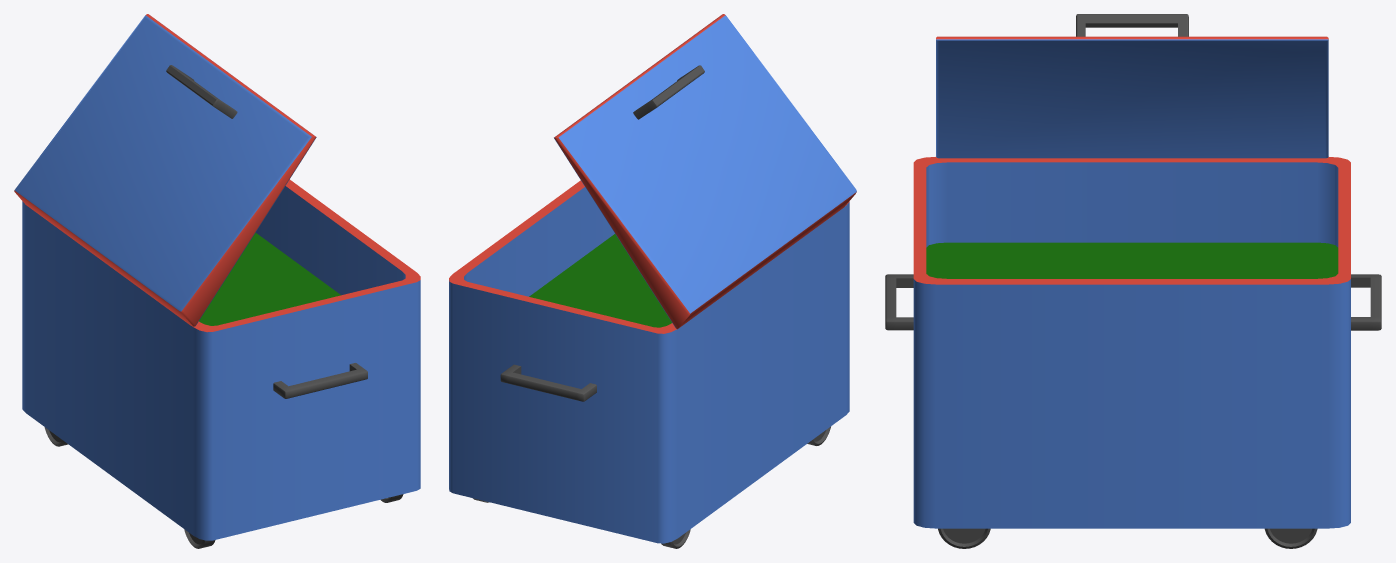
File: Trash.fbx
The picture shows the model from 3 angles, left to right: view 1: azimuth 30°, elevation 25°; view 2: azimuth 150°, elevation 25°; view 3: azimuth 270°, elevation 25°; orthographic projection. The views are drawn at different scales.
Parts seen in each view (by area): view 1: Cube; view 2: Cube; view 3: Cube.
Part boxes in pixels (x1,y1,x2,y2): Cube: [14, 14, 420, 548]; Cube: [449, 14, 856, 548]; Cube: [885, 14, 1381, 548].
Bounding box in the file's own units: 201 × 322 × 313.
